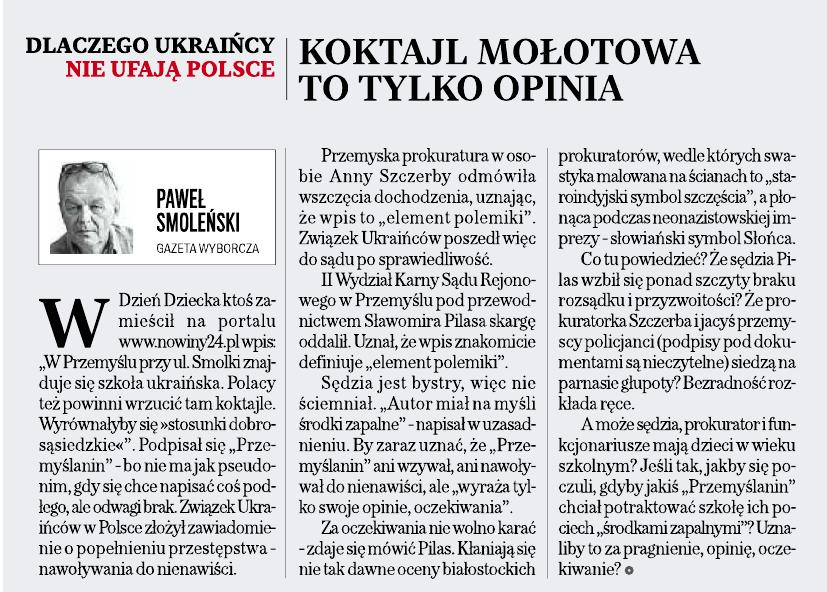author: (149, 181, 247, 236)
body: (293, 144, 540, 582), (555, 144, 801, 582), (30, 281, 278, 582)
title: (24, 27, 710, 112)
